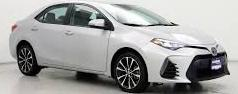Cars: (10, 2, 230, 92)
